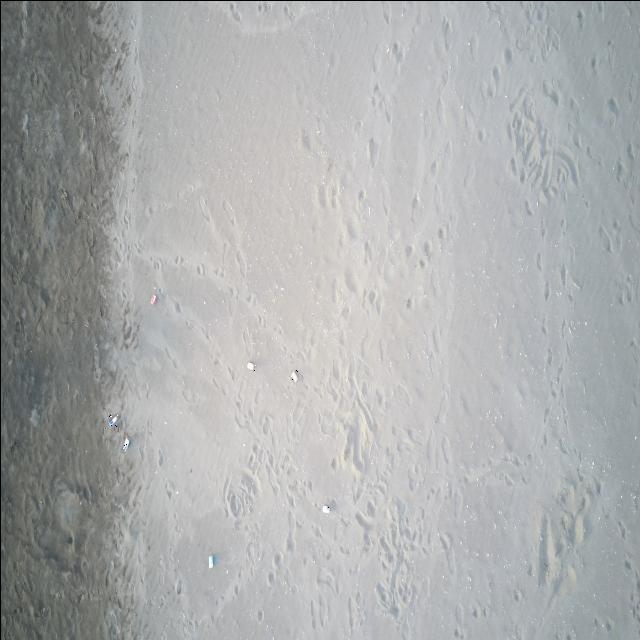Garbage: (207, 553, 218, 567), (108, 413, 118, 428), (289, 369, 298, 382), (121, 435, 128, 451), (323, 504, 331, 512), (150, 293, 156, 303), (247, 362, 255, 368)
